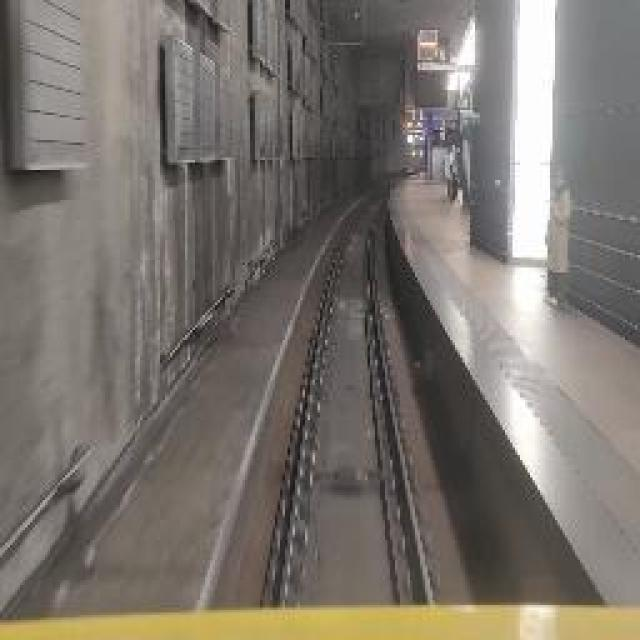rail: (238, 175, 459, 602)
